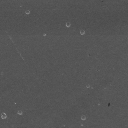corrosion: (23, 8, 31, 16), (1, 111, 8, 120), (80, 114, 87, 122), (78, 29, 85, 36), (16, 110, 24, 116), (65, 21, 71, 27)
